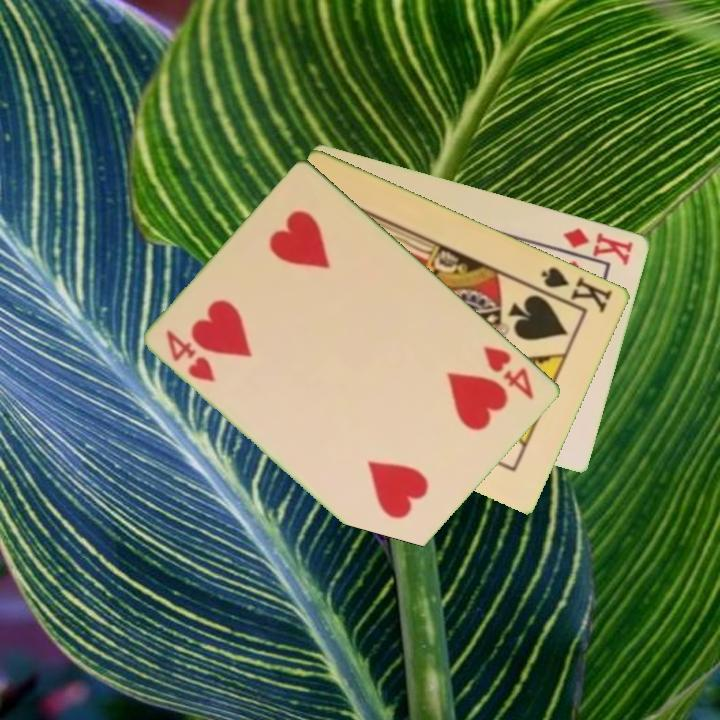4h: (480, 342, 538, 403), (163, 326, 219, 385)
Kd: (560, 224, 637, 269)
Ks: (532, 263, 616, 316)
